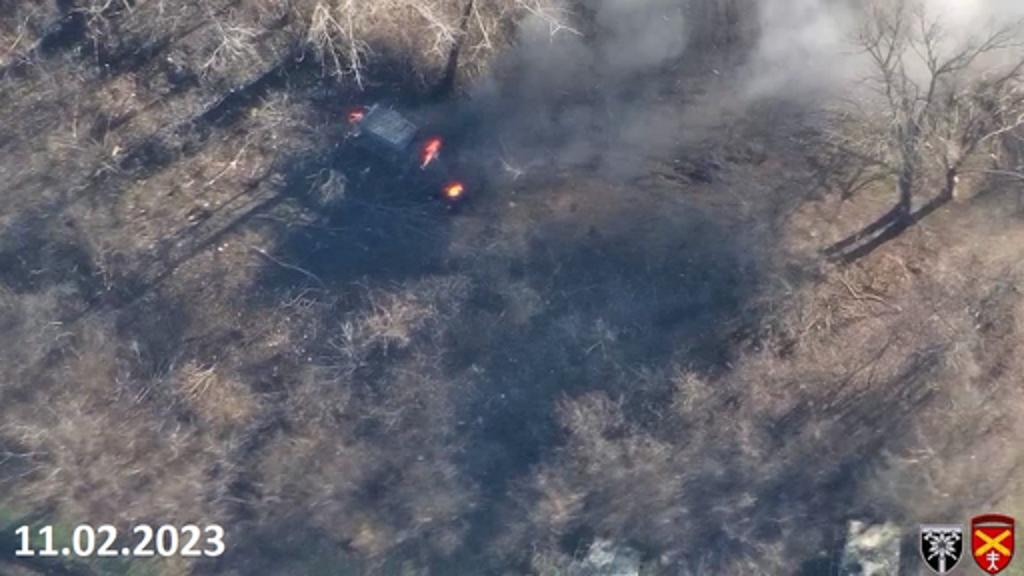MLRS: (336, 96, 476, 212)
